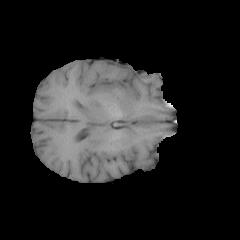glioma: (87, 68, 140, 112)
